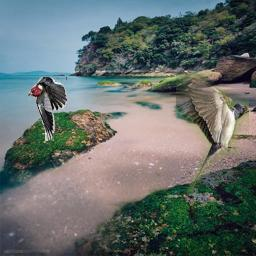Swallow: (176, 72, 249, 195)
Woodpecker: (28, 77, 67, 141)
